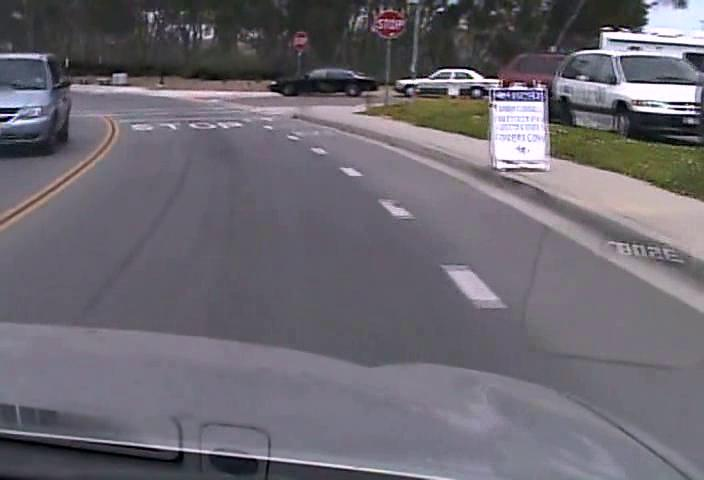stop: (374, 8, 406, 38)
